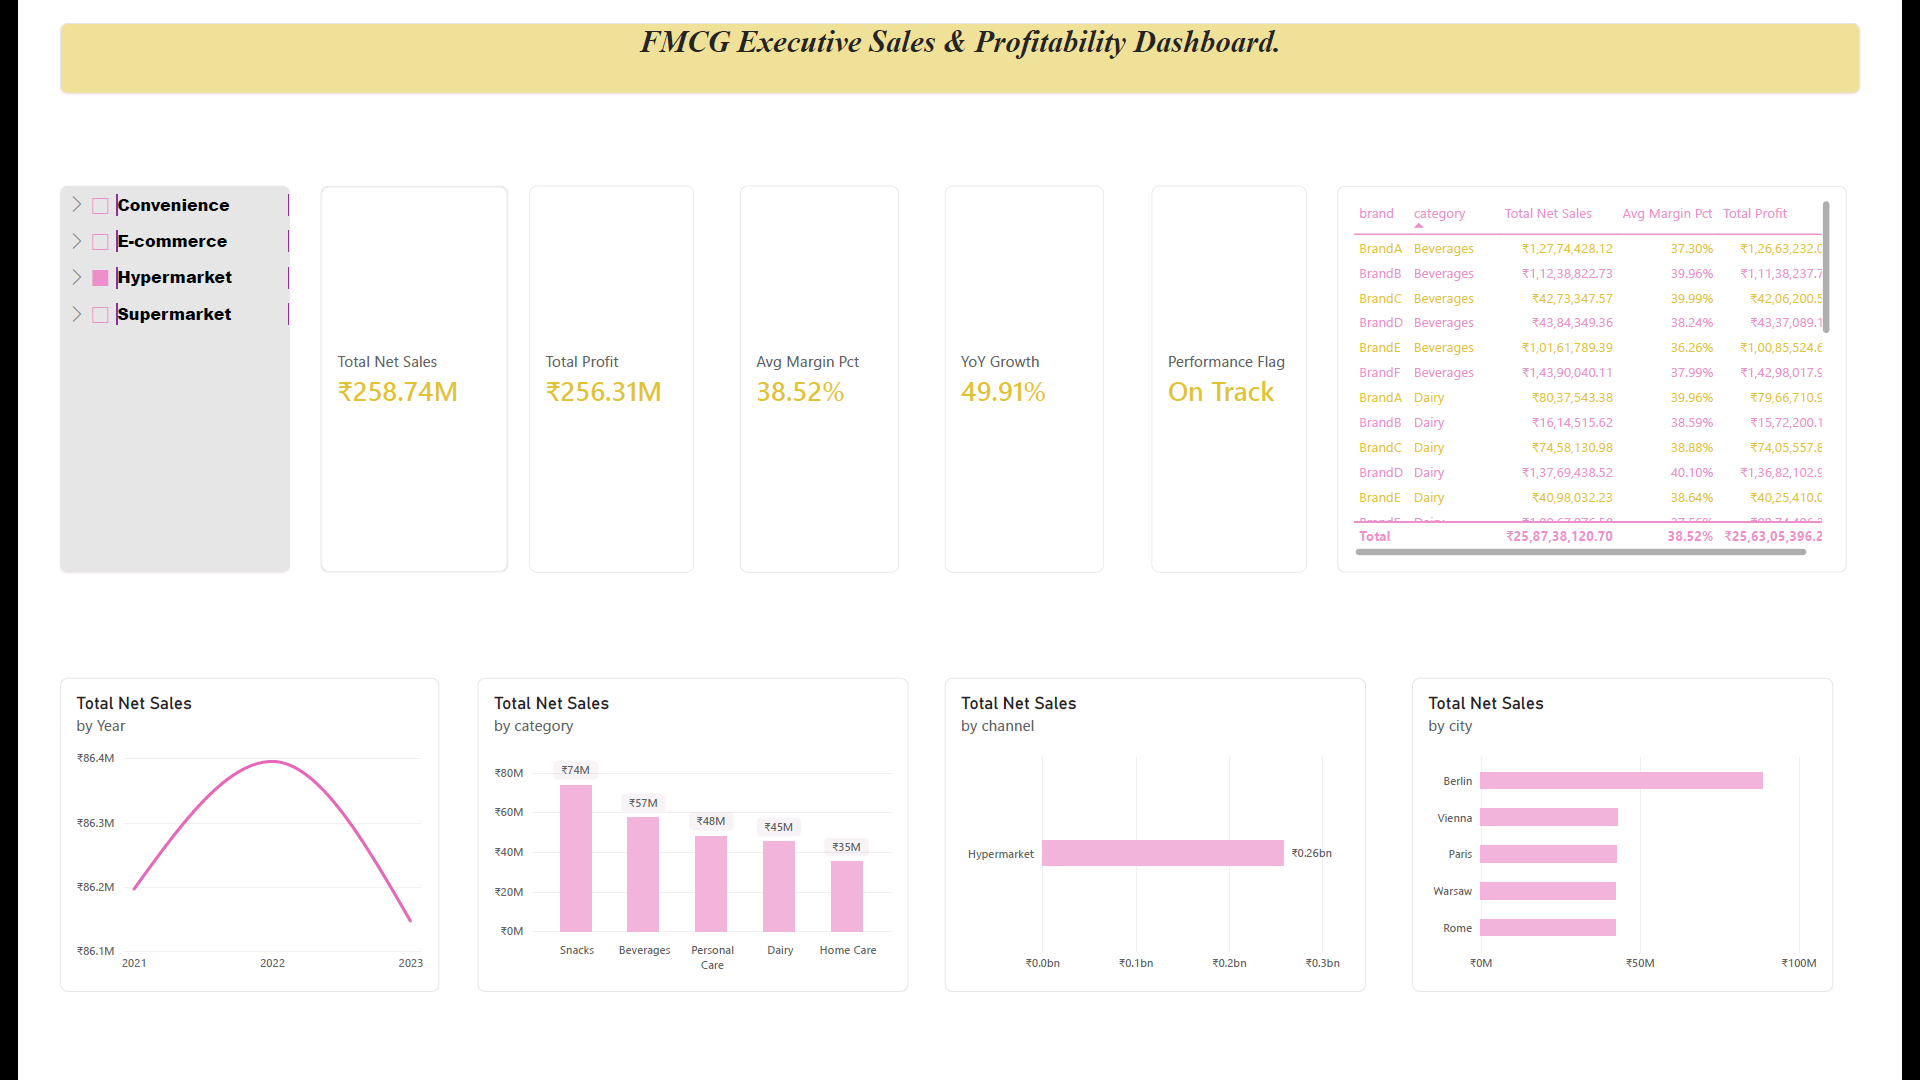

What the dashboard file says about the page in this screenshot:
{"tool":"powerbi","page":{"name":"Page 1","canvas":[1920,1080],"ordinal":0},"visuals":[{"type":"cardVisual","fields":{"Data":["fmcg_sales_3years_1M_rows[1].Total Net Sales"]},"box":[292,170,196,404],"z":0},{"type":"cardVisual","fields":{"Data":["fmcg_sales_3years_1M_rows[1].Total Profit"]},"box":[510,170,172,404],"z":1000},{"type":"cardVisual","fields":{"Data":["Orders.Avg Margin Pct"]},"box":[730,170,166,404],"z":2000},{"type":"lineChart","fields":{"Category":["fmcg_sales_3years_1M_rows[1].date.Variation.Date Hierarchy.Year","fmcg_sales_3years_1M_rows[1].date.Variation.Date Hierarchy.Quarter","fmcg_sales_3years_1M_rows[1].date.Variation.Date Hierarchy.Month","fmcg_sales_3years_1M_rows[1].date.Variation.Date Hierarchy.Day"],"Y":["fmcg_sales_3years_1M_rows[1].Total Net Sales"]},"box":[20,684,396,328],"z":3000},{"type":"clusteredBarChart","fields":{"Category":["fmcg_sales_3years_1M_rows[1].channel"],"Y":["fmcg_sales_3years_1M_rows[1].Total Net Sales"]},"box":[944,684,440,328],"z":4000},{"type":"clusteredColumnChart","fields":{"Category":["fmcg_sales_3years_1M_rows[1].category"],"Y":["fmcg_sales_3years_1M_rows[1].Total Net Sales"]},"box":[456,684,450,328],"z":5000},{"type":"tableEx","fields":{"Values":["fmcg_sales_3years_1M_rows[1].brand","fmcg_sales_3years_1M_rows[1].category","fmcg_sales_3years_1M_rows[1].Total Net Sales","Orders.Avg Margin Pct","fmcg_sales_3years_1M_rows[1].Total Profit"]},"box":[1354,170,532,404],"z":6000},{"type":"textbox","box":[682,786,428,96],"z":7000},{"type":"textbox","box":[20,0,1880,74],"z":8000},{"type":"slicer","fields":{"Values":["fmcg_sales_3years_1M_rows[1].channel","fmcg_sales_3years_1M_rows[1].date"]},"box":[20,170,240,404],"z":9000},{"type":"cardVisual","fields":{"Data":["fmcg_sales_3years_1M_rows[1].YoY Growth"]},"box":[944,170,166,404],"z":10000},{"type":"cardVisual","fields":{"Data":["fmcg_sales_3years_1M_rows[1].Performance Flag"]},"box":[1160,170,162,404],"z":11000},{"type":"clusteredBarChart","fields":{"Category":["fmcg_sales_3years_1M_rows[1].city"],"Y":["fmcg_sales_3years_1M_rows[1].Total Net Sales"]},"box":[1432,684,440,328],"z":12000}]}

Visuals, with their boxes in screenshot pixels (x1, y1, x2, y2), scaled from the page's 1920x1080 canvas onto the 1920x1080 screenshot:
cardVisual - fmcg_sales_3years_1M_rows[1].Total Net Sales: x1=292 y1=170 x2=488 y2=574
cardVisual - fmcg_sales_3years_1M_rows[1].Total Profit: x1=510 y1=170 x2=682 y2=574
cardVisual - Orders.Avg Margin Pct: x1=730 y1=170 x2=896 y2=574
lineChart - fmcg_sales_3years_1M_rows[1].date.Variation.Date Hierarchy.Year x fmcg_sales_3years_1M_rows[1].date.Variation.Date Hierarchy.Quarter: x1=20 y1=684 x2=416 y2=1012
clusteredBarChart - fmcg_sales_3years_1M_rows[1].channel x fmcg_sales_3years_1M_rows[1].Total Net Sales: x1=944 y1=684 x2=1384 y2=1012
clusteredColumnChart - fmcg_sales_3years_1M_rows[1].category x fmcg_sales_3years_1M_rows[1].Total Net Sales: x1=456 y1=684 x2=906 y2=1012
tableEx - fmcg_sales_3years_1M_rows[1].brand x fmcg_sales_3years_1M_rows[1].category: x1=1354 y1=170 x2=1886 y2=574
textbox: x1=682 y1=786 x2=1110 y2=882
textbox: x1=20 y1=0 x2=1900 y2=74
slicer - fmcg_sales_3years_1M_rows[1].channel x fmcg_sales_3years_1M_rows[1].date: x1=20 y1=170 x2=260 y2=574
cardVisual - fmcg_sales_3years_1M_rows[1].YoY Growth: x1=944 y1=170 x2=1110 y2=574
cardVisual - fmcg_sales_3years_1M_rows[1].Performance Flag: x1=1160 y1=170 x2=1322 y2=574
clusteredBarChart - fmcg_sales_3years_1M_rows[1].city x fmcg_sales_3years_1M_rows[1].Total Net Sales: x1=1432 y1=684 x2=1872 y2=1012
